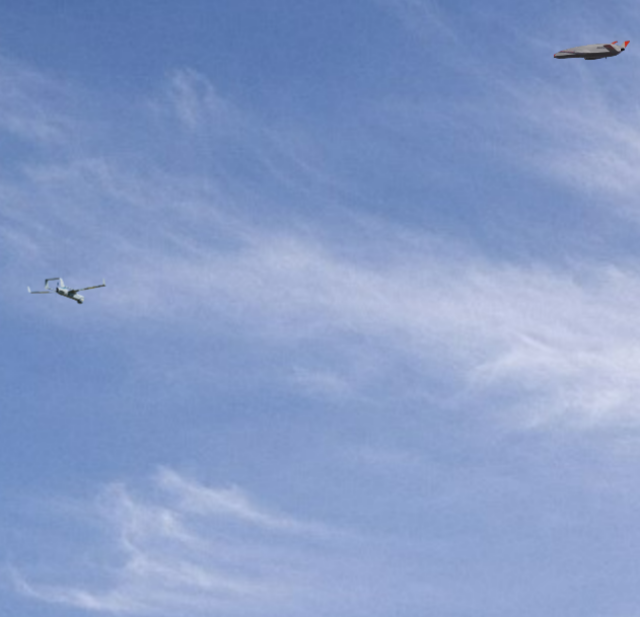military drone: (26, 276, 106, 304), (553, 39, 630, 60)
